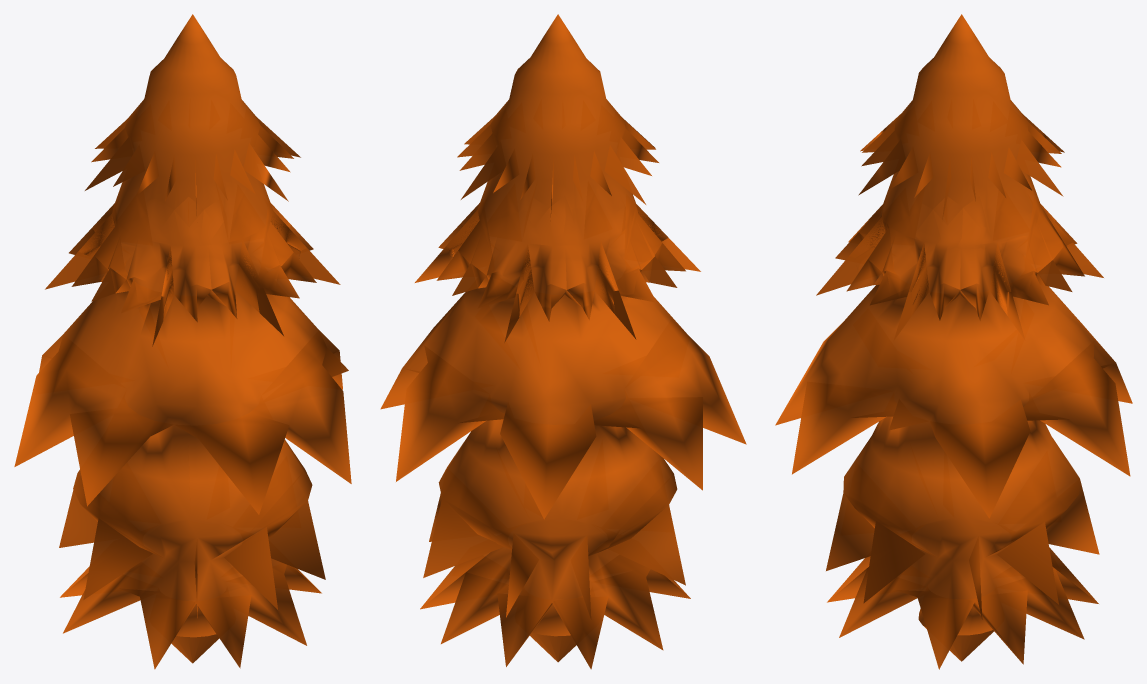
File: FireProjectile.fbx
3 views of the same model, side by side, from view 1: azimuth 30°, elevation 25°; view 2: azimuth 150°, elevation 25°; view 3: azimuth 270°, elevation 25° (orthographic).
Parts seen in each view (by area): view 1: pSphere1; view 2: pSphere1; view 3: pSphere1.
Part boxes in pixels (x1,y1,x2,y2): pSphere1: [14, 14, 351, 669]; pSphere1: [380, 14, 746, 669]; pSphere1: [775, 14, 1132, 669].
Size of the model in its own units: 3.07 by 5.84 by 2.92.
